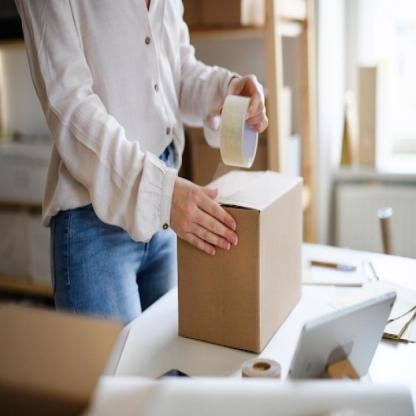box: (178, 166, 304, 354)
